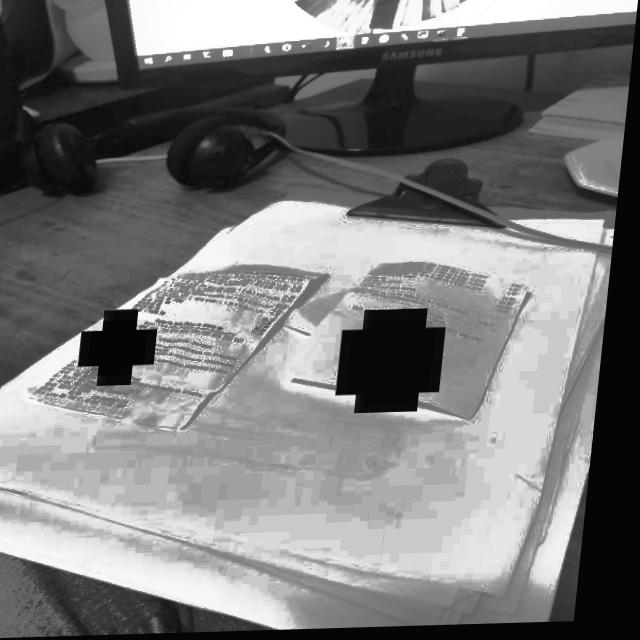qr_code: (354, 321, 444, 407), (95, 321, 155, 377)
